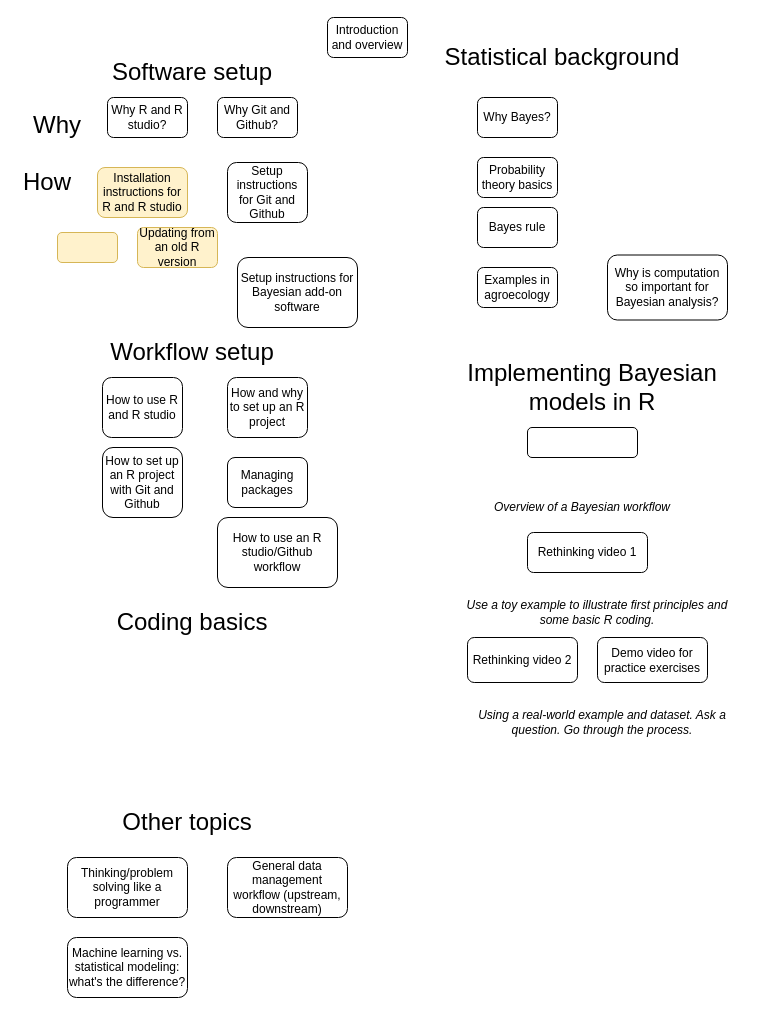
Some shapes in this 759 by 1015 pixel diagram are drawn without their labels. Here are the shapes that lost their labels. From the top down, the centre of each, then its label:
At (x=87, y=247): "For new users".
At (x=582, y=442): "Overview video".
